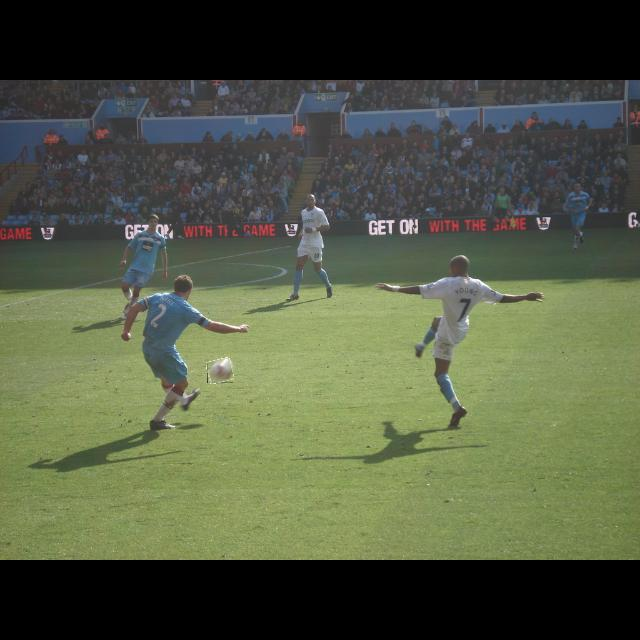Football: (207, 359, 233, 383)
